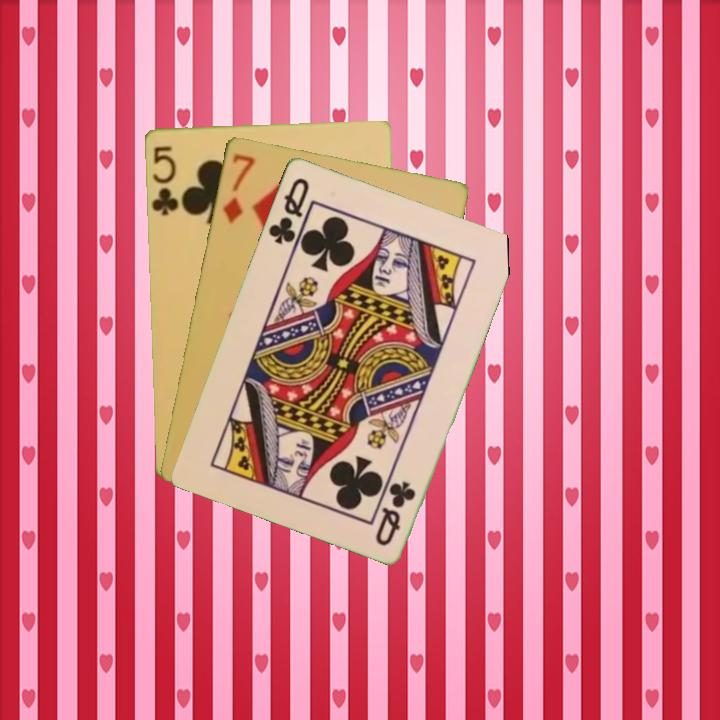5c: (148, 142, 180, 218)
7d: (218, 149, 258, 226)
Qc: (264, 173, 312, 247), (371, 477, 419, 549)
